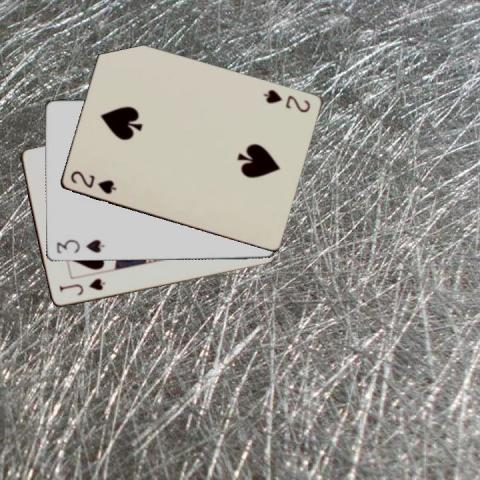2s: (67, 168, 118, 196), (261, 86, 311, 114)
3s: (54, 236, 106, 255)
Js: (56, 275, 106, 298)
